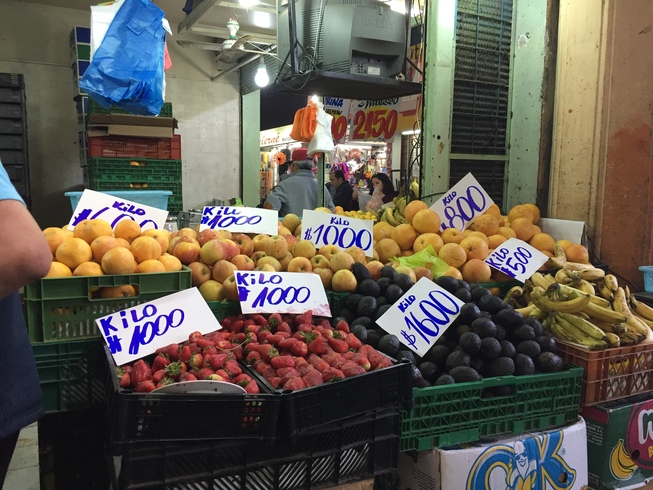precio: (91, 287, 222, 361), (369, 271, 463, 359), (65, 186, 170, 249), (233, 265, 334, 323), (428, 172, 497, 247), (303, 207, 381, 263), (474, 234, 555, 286), (199, 202, 285, 244)
